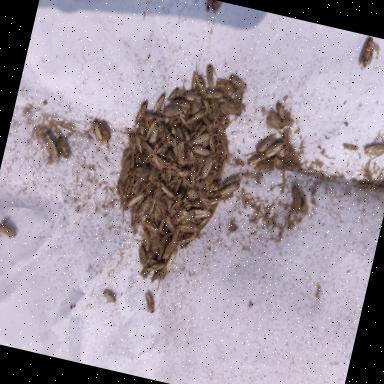pbw: (357, 36, 378, 74), (188, 66, 212, 98), (171, 228, 199, 254), (254, 130, 280, 158), (38, 132, 63, 160), (212, 78, 241, 101), (140, 290, 165, 316), (262, 137, 286, 163), (130, 98, 148, 132), (199, 150, 218, 182), (286, 186, 306, 216), (53, 134, 74, 162), (182, 106, 206, 130), (122, 188, 144, 214), (201, 63, 220, 92), (140, 193, 157, 225), (152, 121, 172, 148), (245, 150, 269, 171), (136, 193, 154, 221), (218, 179, 240, 201), (264, 110, 286, 132), (198, 114, 218, 138), (226, 74, 250, 94), (130, 132, 148, 158), (136, 184, 154, 210), (150, 178, 166, 207), (190, 130, 212, 151), (169, 96, 193, 114), (96, 120, 114, 144), (117, 156, 132, 184), (151, 92, 167, 118), (174, 140, 190, 166), (120, 146, 138, 169), (135, 246, 152, 270), (163, 247, 178, 274), (215, 136, 233, 158), (161, 213, 178, 236), (140, 112, 155, 138), (168, 196, 184, 220), (176, 219, 200, 235), (100, 288, 119, 308), (113, 178, 128, 202), (142, 218, 160, 238), (162, 102, 182, 120), (204, 86, 226, 102), (186, 164, 200, 189), (127, 204, 141, 229), (161, 238, 175, 263), (214, 110, 233, 128), (158, 182, 178, 199), (200, 98, 217, 118), (273, 102, 290, 122), (214, 158, 227, 184), (255, 158, 276, 174), (206, 97, 222, 118), (201, 0, 222, 16), (150, 155, 168, 173), (176, 112, 194, 130), (177, 124, 194, 143), (146, 260, 166, 276), (196, 188, 212, 208), (124, 174, 136, 200), (144, 118, 156, 144), (150, 144, 164, 166), (190, 144, 212, 158), (213, 120, 230, 138), (177, 200, 193, 219), (168, 137, 182, 158), (140, 227, 154, 248), (134, 164, 152, 180), (148, 122, 160, 146), (204, 180, 222, 196), (218, 102, 236, 118), (155, 200, 170, 219), (139, 263, 153, 283), (204, 168, 218, 188), (196, 214, 210, 234), (172, 166, 192, 180), (192, 208, 212, 222), (218, 95, 237, 109), (150, 267, 164, 286), (130, 176, 142, 198), (206, 136, 219, 156), (140, 140, 156, 156), (184, 186, 201, 201), (166, 86, 180, 104), (122, 175, 132, 200), (182, 91, 201, 104), (222, 175, 238, 190), (148, 236, 160, 256), (162, 168, 174, 188), (208, 201, 220, 221), (194, 124, 208, 140), (194, 161, 205, 180), (176, 185, 188, 202), (173, 176, 183, 196), (268, 156, 284, 168), (164, 146, 176, 162), (156, 216, 166, 235), (146, 164, 156, 182), (156, 244, 166, 262), (187, 150, 198, 166), (208, 196, 222, 208), (161, 231, 173, 245), (189, 198, 203, 210), (133, 152, 144, 164), (142, 242, 152, 255), (152, 209, 161, 222), (168, 125, 178, 136), (172, 118, 180, 130)
